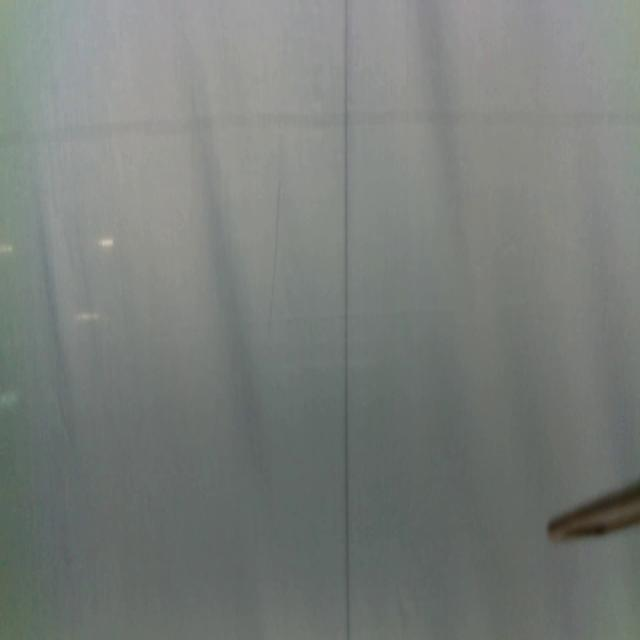color bleeding: (0, 102, 640, 152)
crease: (342, 1, 353, 640), (268, 184, 283, 332)
